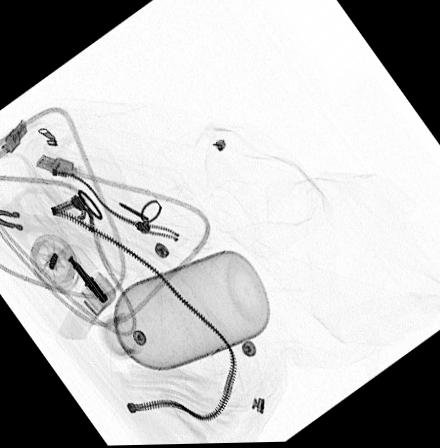Scissors: (0, 184, 73, 261)
